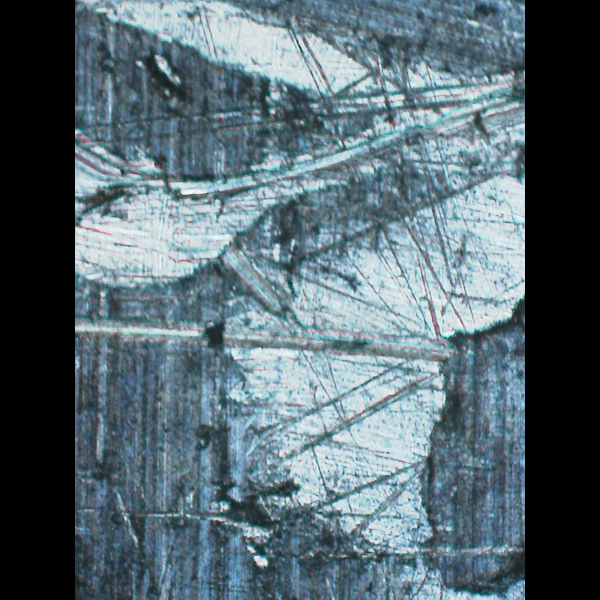d: (76, 1, 524, 600)
